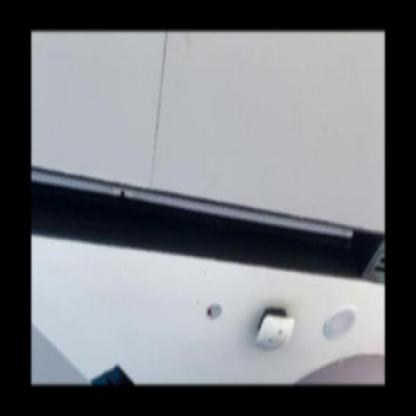light_off: (34, 111, 359, 261)
